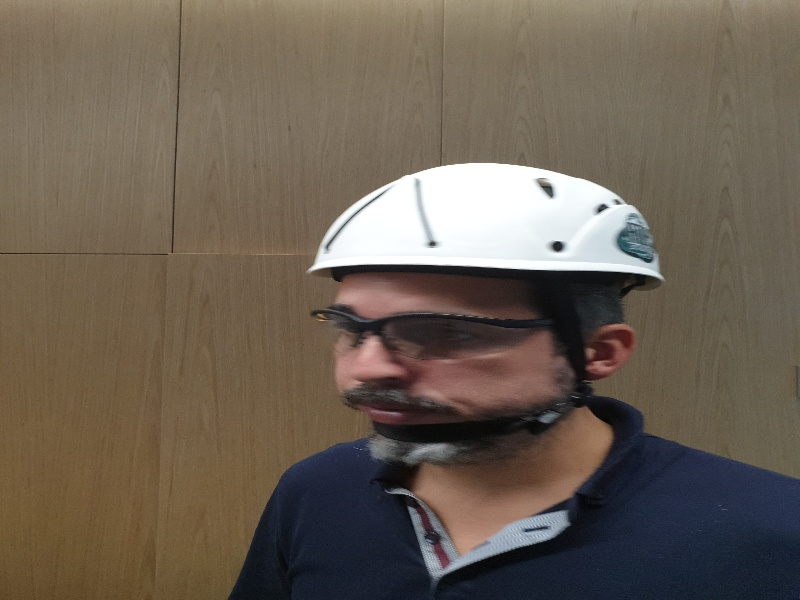Baret: (304, 161, 664, 285)
Gozluk: (309, 306, 572, 355)
